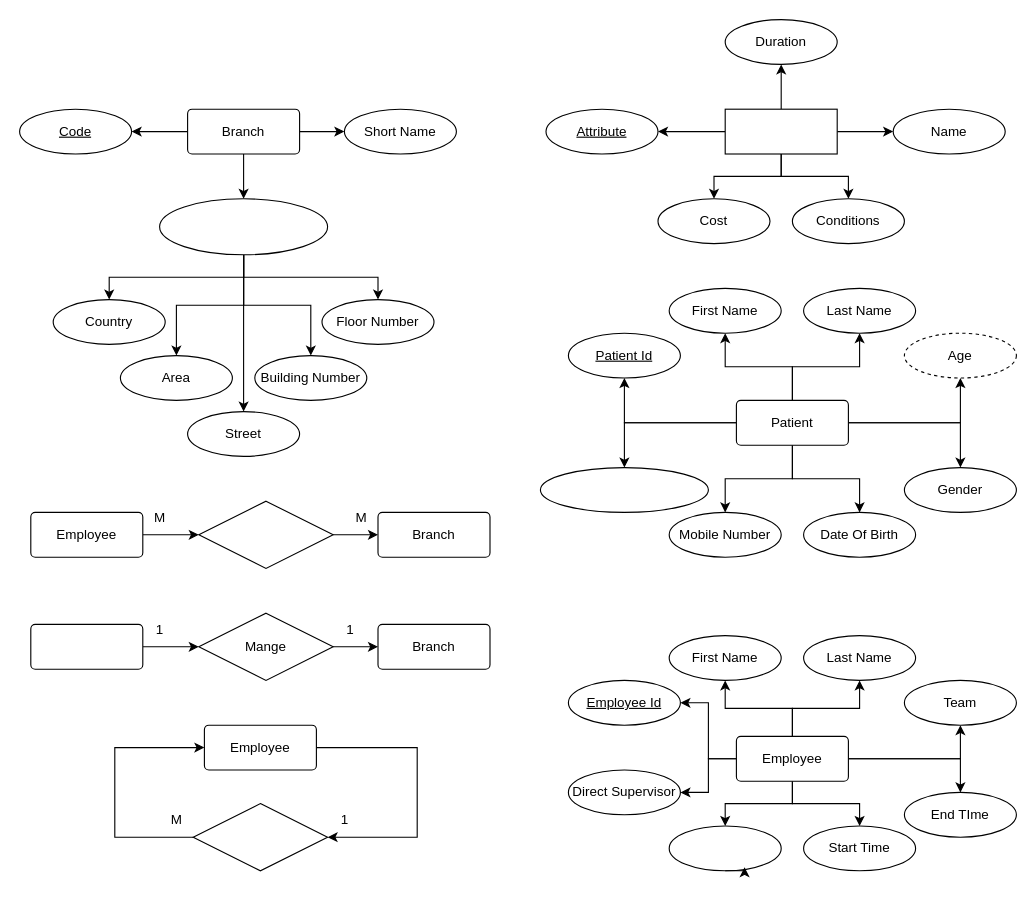
Image size: 1036x899. Some labels were removed from this diagram. The box of each missing label's shape, as (x1, y1, x2, y2) in pixels:
Address: (158, 198, 328, 255)
has_chronic_diseases: (539, 466, 708, 512)
Manger: (30, 623, 143, 669)
Salary: (668, 825, 781, 871)
Supervise: (192, 802, 328, 871)
Test: (724, 108, 837, 154)
Works in: (198, 500, 333, 568)
